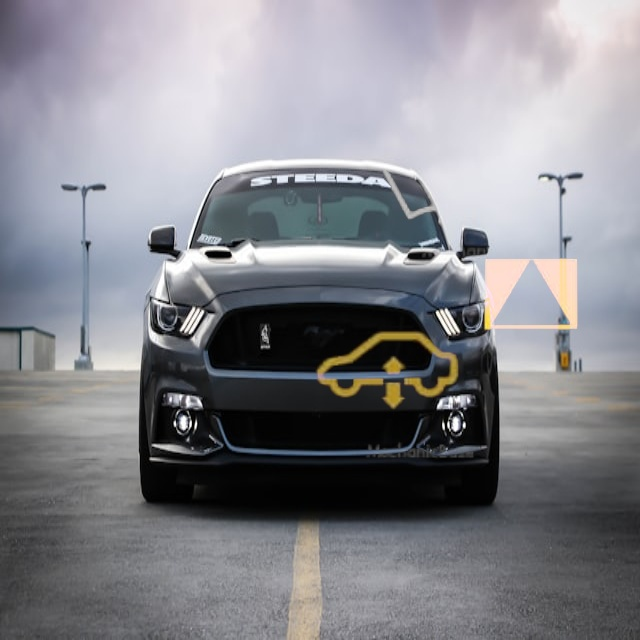symbol: (342, 63, 547, 268), (293, 279, 481, 467), (468, 231, 595, 358)
